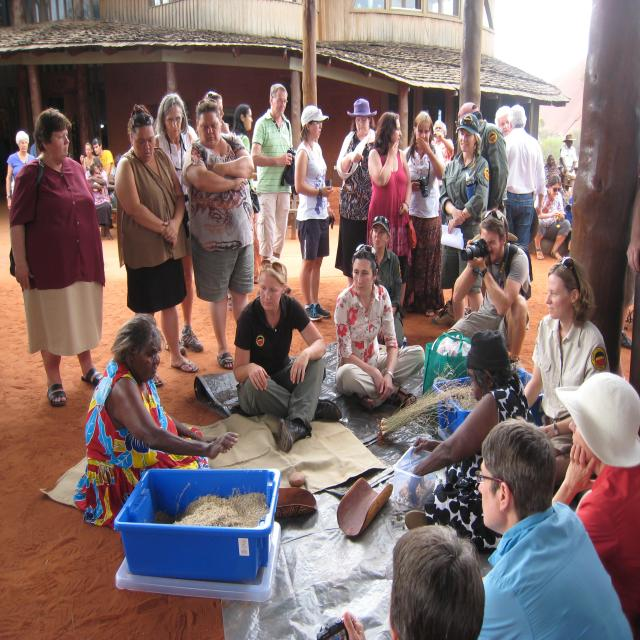body: (71, 309, 241, 537), (474, 415, 634, 640), (476, 415, 634, 640), (404, 328, 537, 550), (9, 105, 106, 406), (286, 512, 496, 640), (113, 100, 200, 390), (232, 254, 343, 455), (521, 255, 612, 484), (182, 97, 257, 370), (332, 241, 427, 418), (446, 208, 533, 368), (152, 92, 203, 356), (364, 111, 418, 320), (439, 113, 491, 314), (293, 103, 337, 325), (250, 83, 295, 295), (402, 112, 445, 317), (334, 98, 378, 287), (502, 103, 547, 249), (456, 101, 510, 219), (232, 102, 262, 285), (616, 156, 640, 352), (368, 215, 403, 349), (534, 174, 570, 261), (430, 118, 456, 225), (85, 156, 114, 241), (6, 130, 36, 211), (203, 91, 230, 134), (559, 134, 578, 193), (91, 136, 115, 181), (108, 154, 123, 208), (88, 164, 107, 199), (80, 141, 98, 175), (494, 105, 511, 139), (564, 194, 572, 258), (544, 154, 559, 187), (28, 130, 39, 164)
